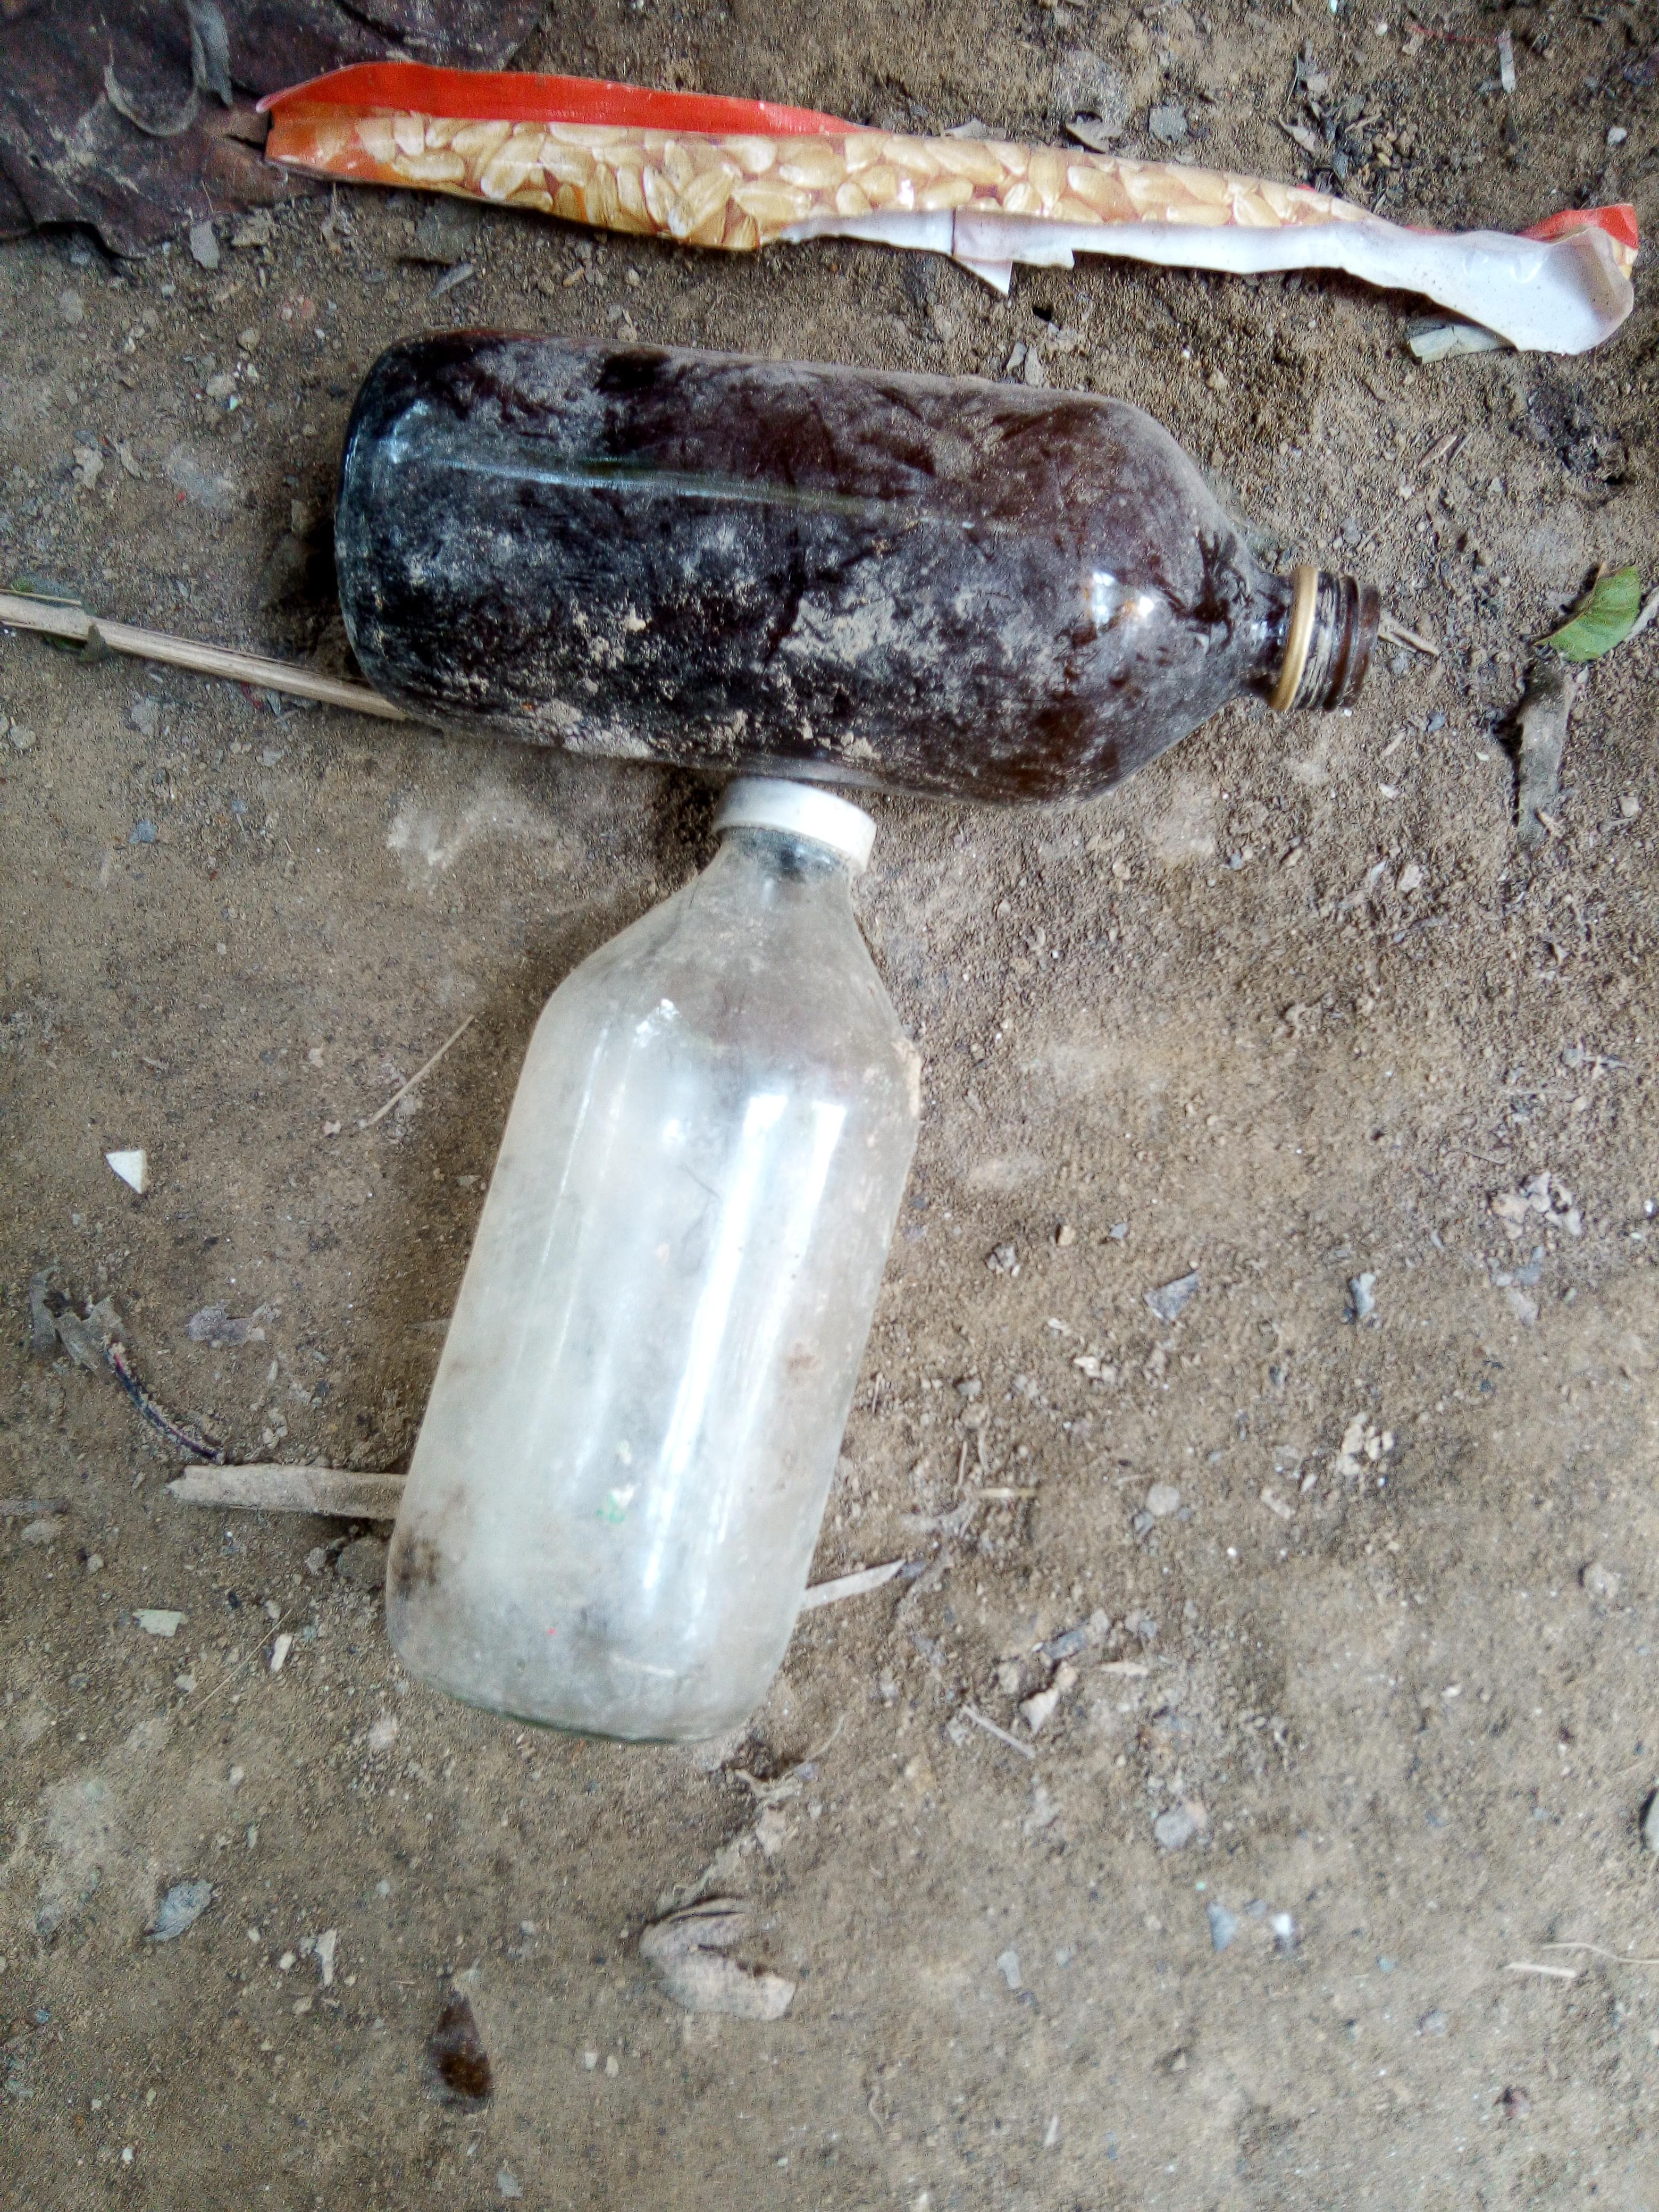organic: (214, 61, 1624, 1770)
